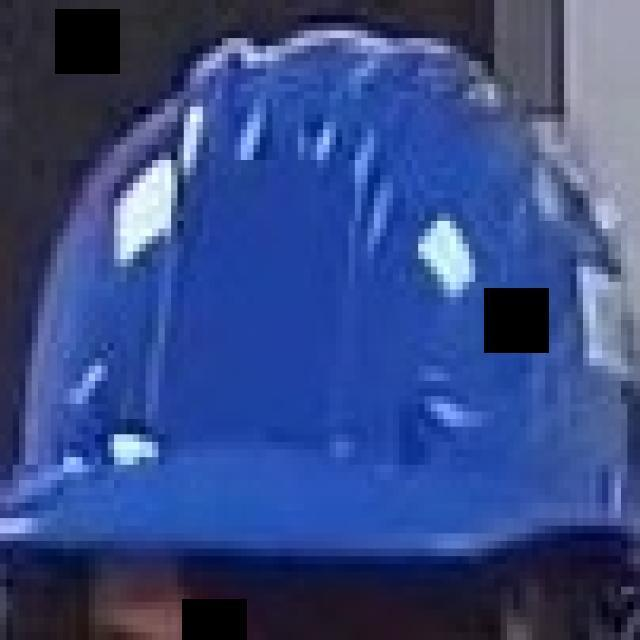blue helmet: (13, 8, 626, 566)
